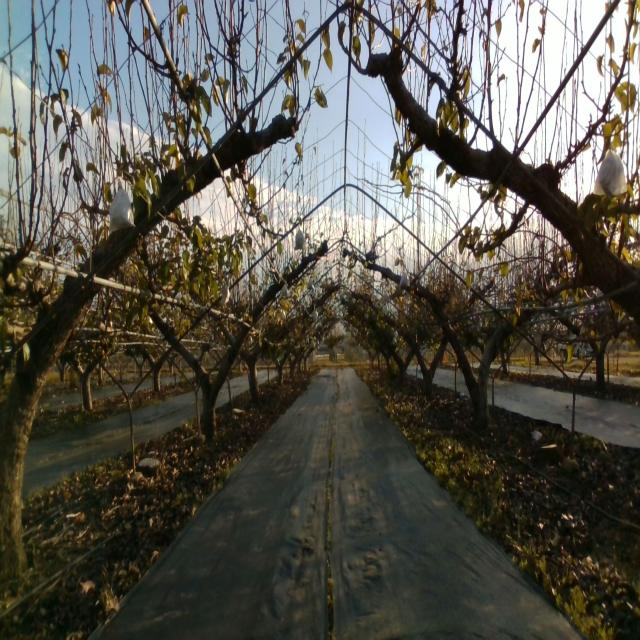pearbags: (592, 144, 628, 200), (107, 178, 136, 235), (293, 224, 307, 252), (398, 267, 411, 288)
